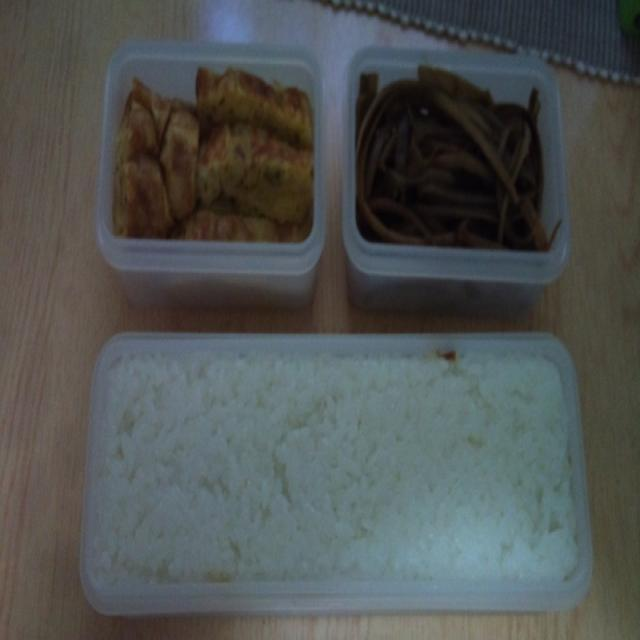Rice: (82, 353, 580, 588)
